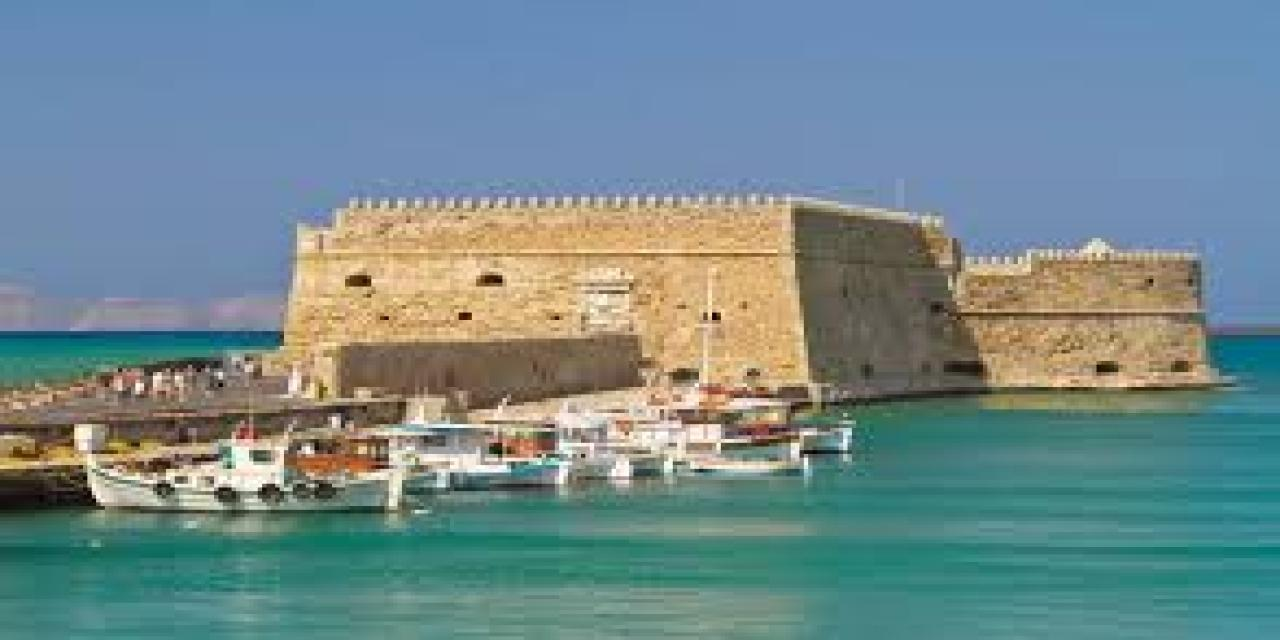Kules: (287, 194, 1232, 397)
